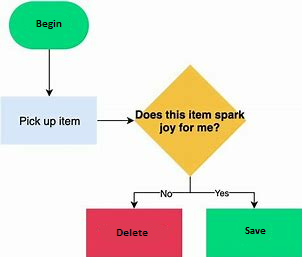arrow: (187, 176, 259, 210), (129, 177, 194, 210), (44, 48, 56, 96), (96, 115, 135, 125)
decision: (132, 63, 248, 178)
process: (1, 94, 99, 146), (85, 207, 184, 257), (204, 206, 302, 256)
terminator: (8, 1, 90, 50)
text: (133, 108, 247, 136), (17, 115, 83, 130), (115, 226, 150, 238), (34, 19, 64, 30), (244, 225, 268, 237), (214, 189, 231, 199), (157, 189, 176, 197)
